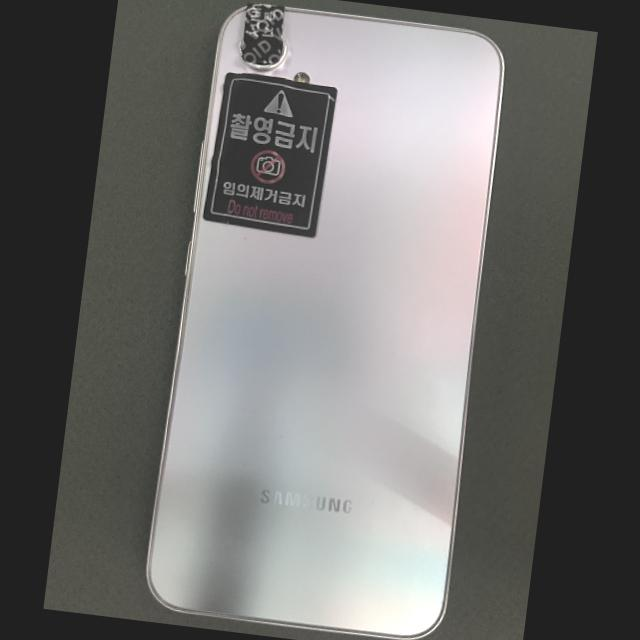lens: (246, 36, 287, 70)
phone: (145, 3, 505, 640)
sticker: (202, 72, 337, 238), (241, 2, 285, 64)
